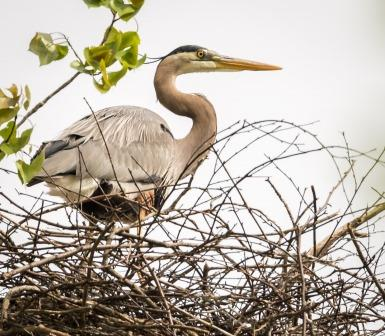heron: (35, 44, 285, 284)
